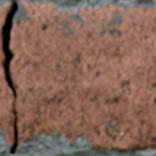broken_brick: (10, 2, 155, 149), (0, 67, 14, 147), (0, 3, 12, 62)
crack: (0, 1, 18, 154), (152, 0, 155, 8)
